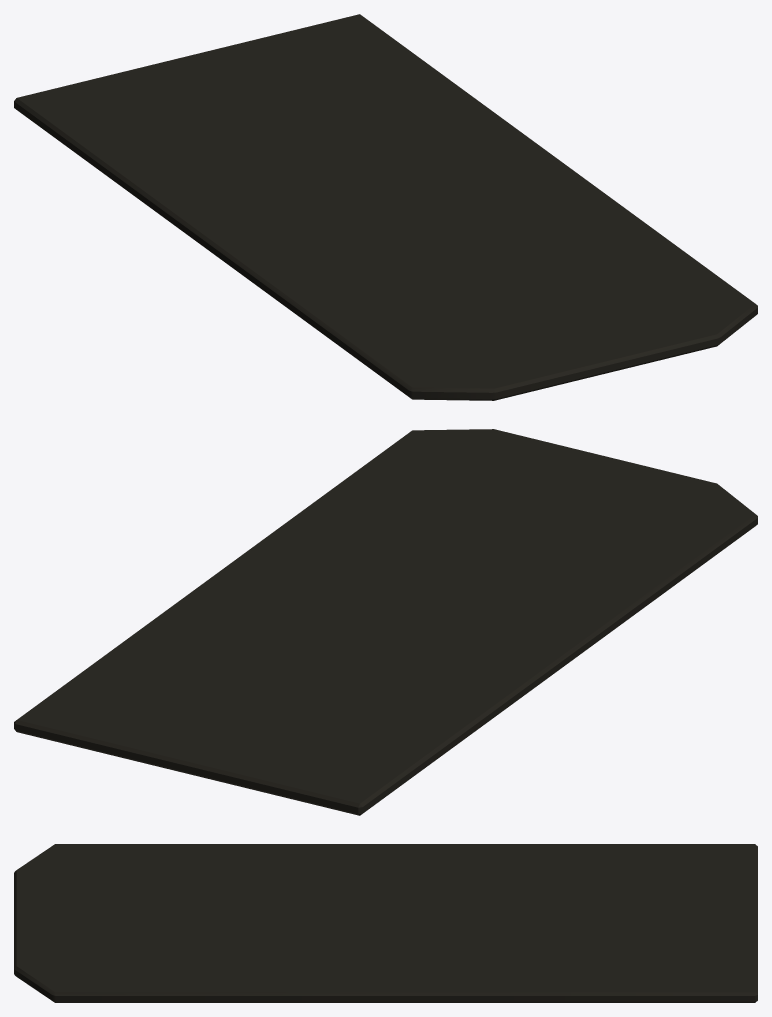
Rendered from Body.fbx.
The picture shows the model from 3 angles, top to bottom: view 1: azimuth 30°, elevation 25°; view 2: azimuth 150°, elevation 25°; view 3: azimuth 270°, elevation 25°; orthographic projection. The views are drawn at different scales.
Parts seen in each view (by area): view 1: Body; view 2: Body; view 3: Body.
Part boxes in pixels (<box>): Body: <box>14,14,757,400</box>; Body: <box>14,429,757,815</box>; Body: <box>14,844,757,1002</box>.
Size of the model in its own units: 9 by 0.3 by 18.8.
